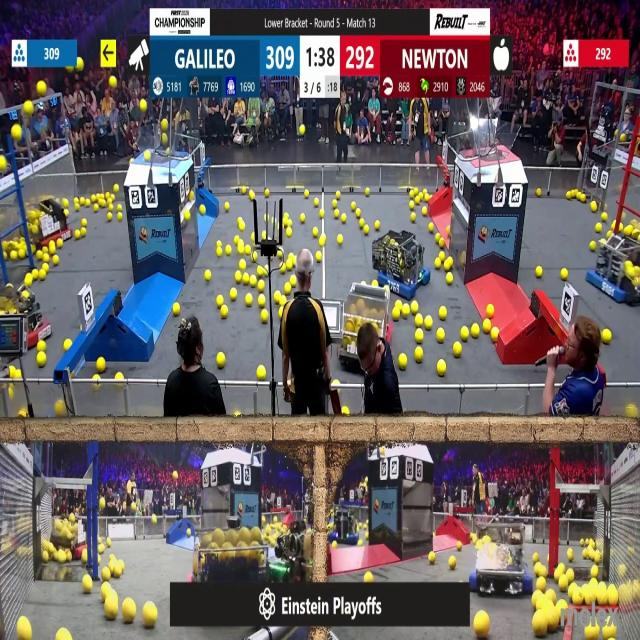ball_airborne: (11, 126, 20, 141), (37, 84, 46, 98), (25, 102, 34, 115), (76, 59, 83, 73), (0, 157, 6, 171), (140, 100, 147, 112), (109, 76, 116, 87), (100, 497, 106, 508), (165, 147, 172, 156), (163, 134, 169, 144), (163, 118, 169, 128), (144, 150, 150, 160), (298, 126, 304, 136), (68, 66, 74, 74)
ball_ground: (534, 611, 549, 640), (475, 613, 490, 639), (124, 600, 137, 623), (144, 605, 156, 629), (105, 598, 118, 620), (19, 619, 32, 640), (56, 402, 66, 418), (82, 578, 91, 595), (216, 352, 225, 368), (627, 406, 637, 419), (58, 630, 71, 640), (532, 593, 540, 609), (256, 364, 265, 378), (415, 348, 424, 362), (424, 316, 433, 330), (415, 330, 424, 344), (602, 328, 611, 342), (98, 356, 106, 371), (439, 360, 447, 375), (398, 354, 406, 369), (454, 343, 462, 358), (534, 564, 544, 576), (470, 324, 479, 337), (536, 579, 545, 592), (38, 352, 46, 366), (401, 304, 409, 318), (113, 565, 122, 577), (438, 331, 446, 344), (262, 311, 270, 324), (559, 577, 567, 590), (363, 571, 372, 582), (487, 305, 494, 319), (449, 557, 457, 569), (392, 309, 400, 321), (440, 307, 448, 319), (64, 340, 72, 352), (566, 570, 574, 582), (555, 566, 563, 578), (173, 304, 180, 317), (461, 327, 468, 340), (446, 274, 454, 285), (204, 271, 212, 282), (236, 272, 243, 284), (216, 294, 223, 306), (484, 320, 491, 332), (231, 288, 238, 300), (245, 294, 252, 306), (412, 303, 419, 315), (416, 315, 423, 327), (220, 307, 227, 319), (81, 552, 88, 564), (103, 568, 110, 580), (26, 275, 33, 287), (42, 552, 49, 564), (428, 552, 435, 564), (102, 584, 109, 596), (274, 292, 282, 302), (559, 600, 567, 610), (316, 251, 323, 262), (257, 280, 264, 291), (284, 283, 291, 294), (183, 210, 190, 221), (258, 294, 264, 306), (243, 273, 249, 285), (492, 331, 498, 343), (592, 565, 598, 577), (278, 307, 284, 319), (561, 270, 568, 280), (535, 268, 542, 278), (250, 276, 257, 286), (434, 261, 441, 271), (445, 262, 452, 272), (38, 342, 45, 352), (318, 237, 325, 247), (591, 203, 598, 213), (238, 245, 245, 255), (118, 370, 125, 380), (288, 253, 295, 263), (245, 245, 252, 255), (257, 267, 263, 278), (567, 551, 573, 562), (49, 243, 55, 254), (152, 513, 158, 524), (53, 258, 60, 267), (18, 411, 25, 420), (577, 192, 584, 201), (394, 302, 401, 311), (240, 262, 246, 272), (590, 242, 596, 252), (9, 366, 15, 376), (428, 222, 434, 232), (75, 231, 81, 241), (338, 236, 344, 246), (43, 252, 49, 262), (290, 277, 296, 287), (18, 249, 24, 259), (252, 252, 258, 262), (66, 552, 72, 562), (260, 232, 266, 242), (36, 250, 42, 260), (41, 265, 48, 273), (343, 409, 350, 417), (225, 246, 231, 255), (363, 224, 369, 233), (596, 222, 602, 231), (40, 271, 46, 280), (58, 240, 64, 249), (240, 221, 246, 230), (286, 229, 292, 238), (286, 263, 292, 272), (10, 251, 16, 260), (532, 554, 538, 563), (85, 201, 91, 210), (412, 212, 417, 222), (376, 220, 381, 230), (119, 212, 124, 222), (602, 212, 607, 222), (33, 270, 38, 280), (314, 200, 320, 208), (410, 202, 416, 210), (276, 250, 282, 258), (250, 234, 256, 242), (331, 200, 337, 208), (422, 208, 428, 216), (335, 210, 341, 218), (358, 218, 364, 226), (331, 540, 337, 548), (100, 200, 106, 208), (356, 209, 361, 218), (201, 206, 206, 215), (342, 214, 347, 223), (536, 187, 541, 196), (99, 543, 104, 552), (80, 229, 85, 238), (313, 229, 318, 238), (108, 202, 113, 211), (132, 503, 137, 512), (460, 255, 465, 264), (610, 222, 615, 231), (94, 205, 100, 212), (363, 532, 369, 539), (74, 205, 80, 212), (299, 214, 304, 222), (108, 212, 112, 222), (216, 248, 221, 256), (81, 218, 86, 226), (319, 210, 324, 218), (113, 184, 118, 192), (250, 190, 254, 200), (282, 266, 287, 274), (371, 280, 376, 288), (351, 203, 356, 211), (216, 240, 221, 248), (283, 218, 288, 226), (93, 194, 98, 202), (440, 240, 445, 248), (566, 194, 571, 202), (441, 252, 446, 260), (79, 198, 84, 206), (410, 190, 415, 198), (3, 252, 8, 260), (242, 186, 247, 194), (224, 203, 228, 212), (435, 234, 439, 243), (235, 413, 241, 419), (335, 380, 341, 386), (94, 375, 100, 381), (266, 189, 271, 196), (305, 190, 310, 197), (235, 237, 240, 244), (186, 529, 191, 536), (424, 193, 429, 200), (364, 188, 369, 195), (358, 539, 363, 546), (457, 541, 461, 549), (107, 538, 111, 546), (106, 191, 110, 199), (98, 556, 102, 564), (337, 191, 341, 198), (416, 198, 420, 205), (65, 210, 69, 217), (116, 205, 120, 212), (98, 536, 102, 543), (360, 281, 364, 287)
goal: (464, 122, 520, 160), (128, 130, 191, 160)
robot_blue: (467, 522, 532, 598), (370, 230, 430, 302), (589, 230, 636, 304), (331, 508, 361, 546)
robot_red: (336, 285, 392, 373), (0, 288, 45, 350), (30, 194, 72, 242), (52, 514, 88, 557)
